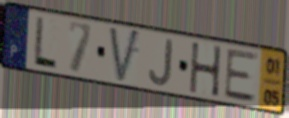7: (67, 20, 93, 75)
E: (222, 48, 261, 105)
H: (188, 41, 224, 100)
J: (147, 38, 175, 89)
L: (31, 14, 59, 72)
V: (107, 25, 142, 87)
